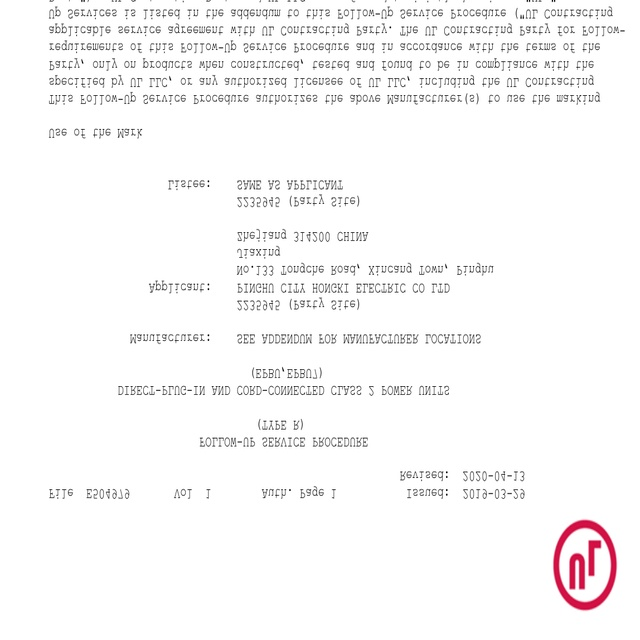ul: (551, 518, 618, 611)
